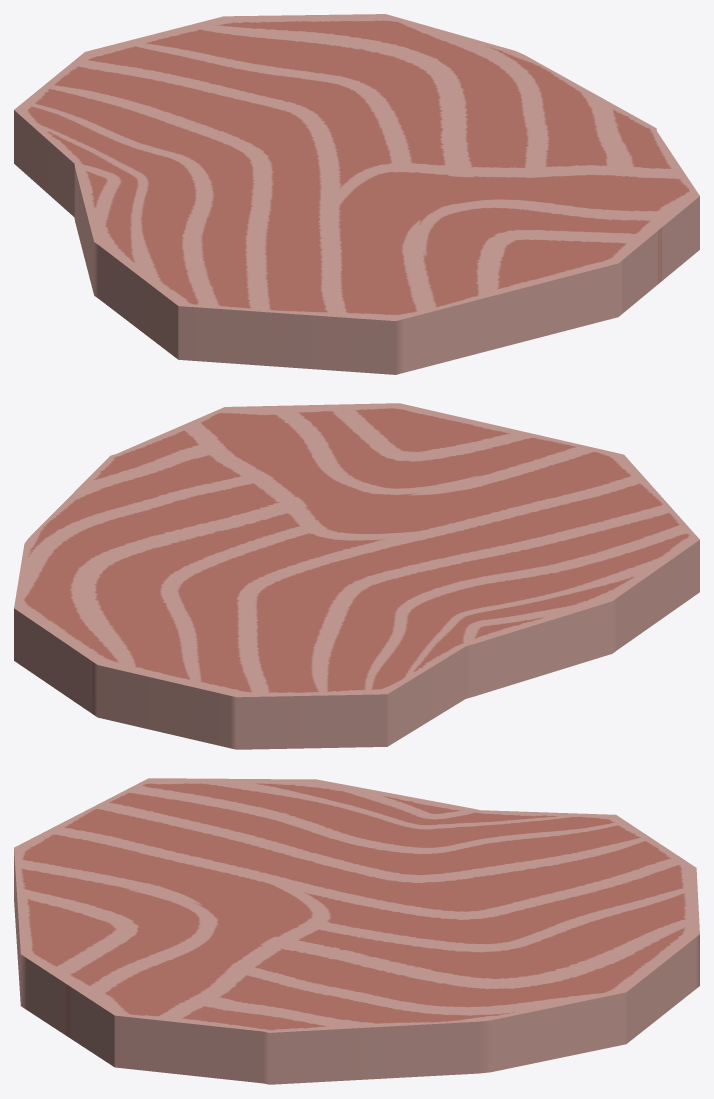
The model's file is meat.fbx.
The picture shows the model from 3 angles, top to bottom: view 1: azimuth 30°, elevation 25°; view 2: azimuth 150°, elevation 25°; view 3: azimuth 270°, elevation 25°; orthographic projection. The views are drawn at different scales.
Parts seen in each view (by area): view 1: meat; view 2: meat; view 3: meat.
Boxes of the visible parts, x1,y1,x2,y2 form: meat: [14, 14, 699, 374]; meat: [14, 403, 699, 749]; meat: [14, 778, 699, 1084].
Bounding box in the file's own units: 239 × 22.67 × 272.
Materials: 1 (1 with a texture image).
